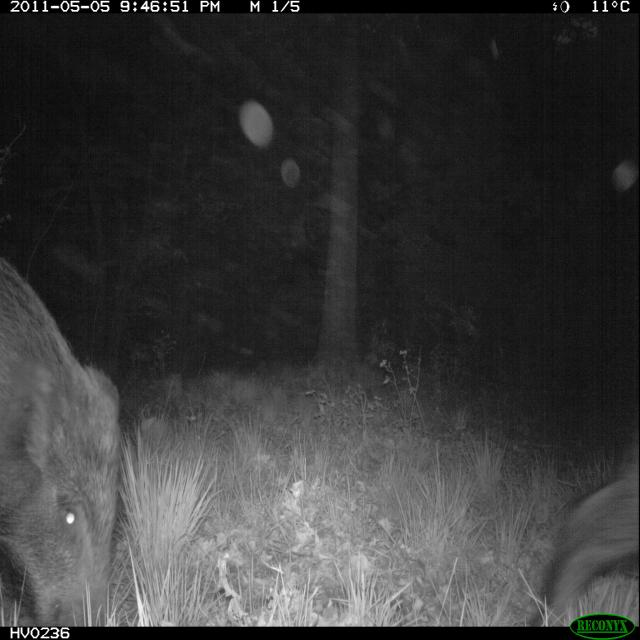boar: (0, 214, 131, 621)
